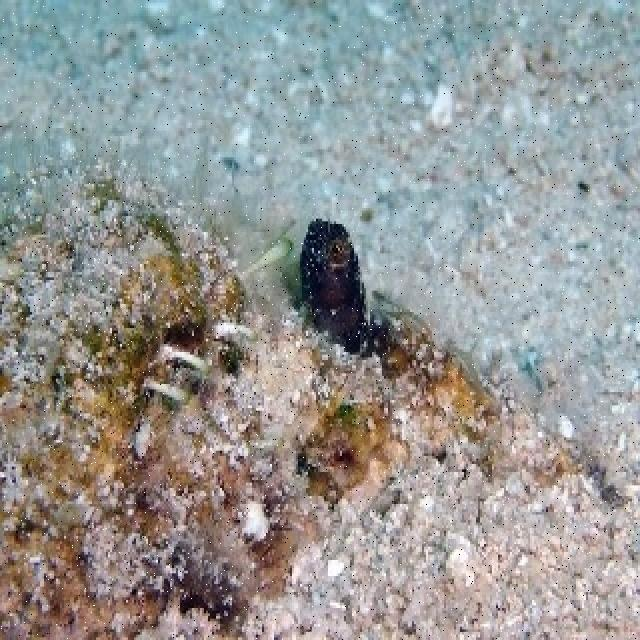fish: (298, 218, 370, 353)
